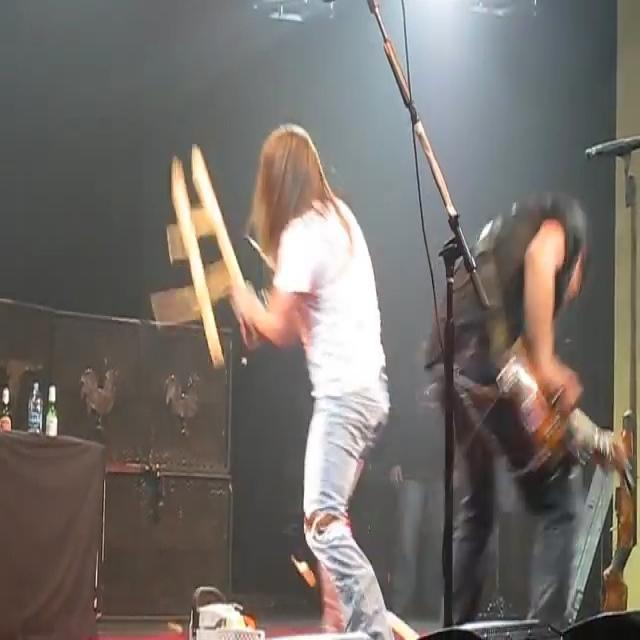Chainsaw: (169, 568, 268, 640)
